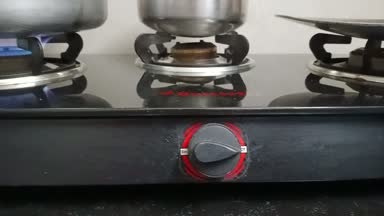flame_gas_off: (137, 16, 255, 174)
flame_gas_on: (0, 21, 92, 121)
